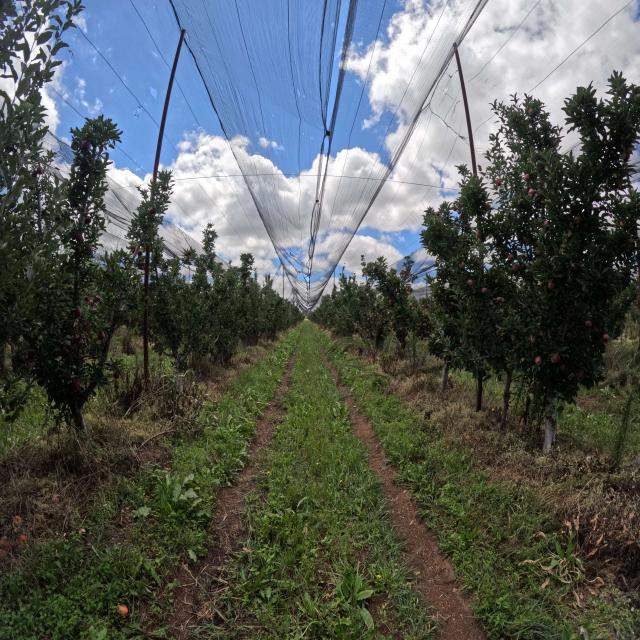-FireBlight-: (70, 321, 90, 355)
